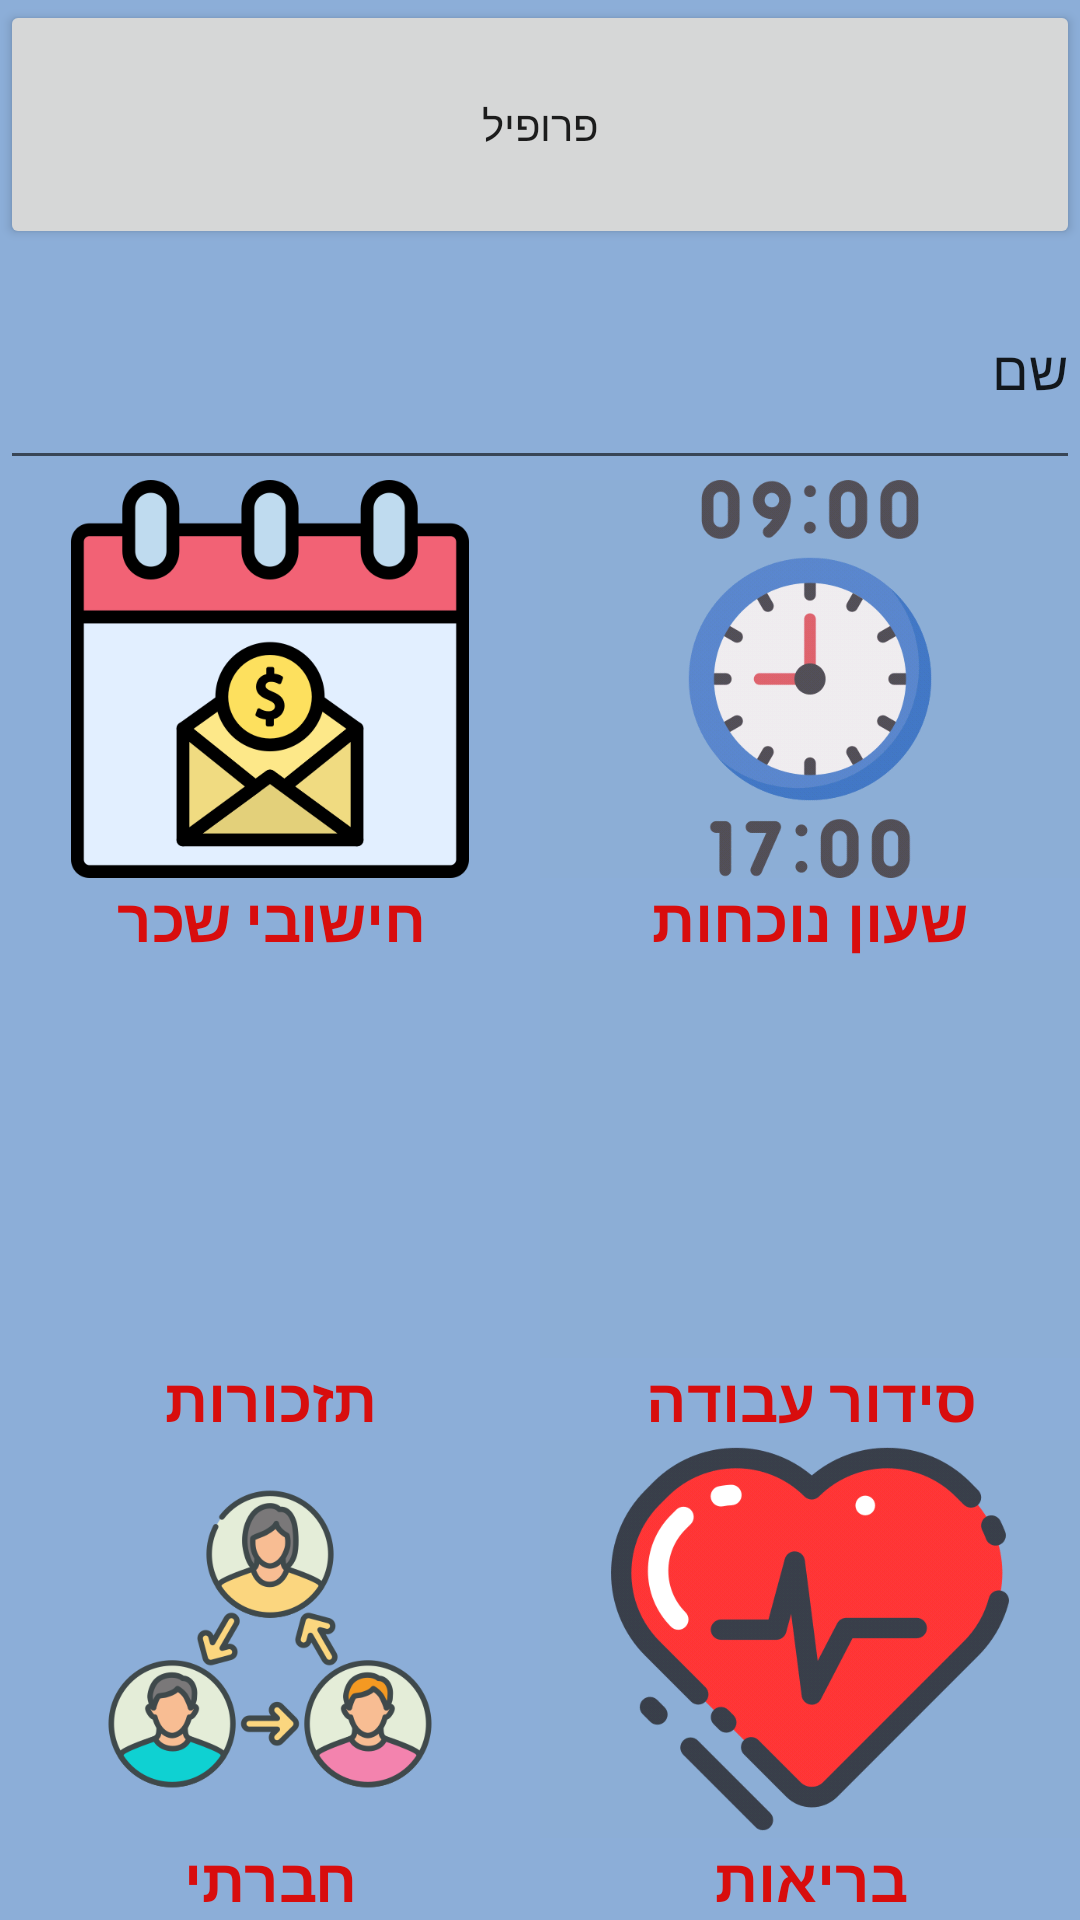

Named icons in this screenshot (1080px x 1920px) and their bounding boxes, (x1, y1, x2, y2):
network: (108, 1490, 432, 1788)
